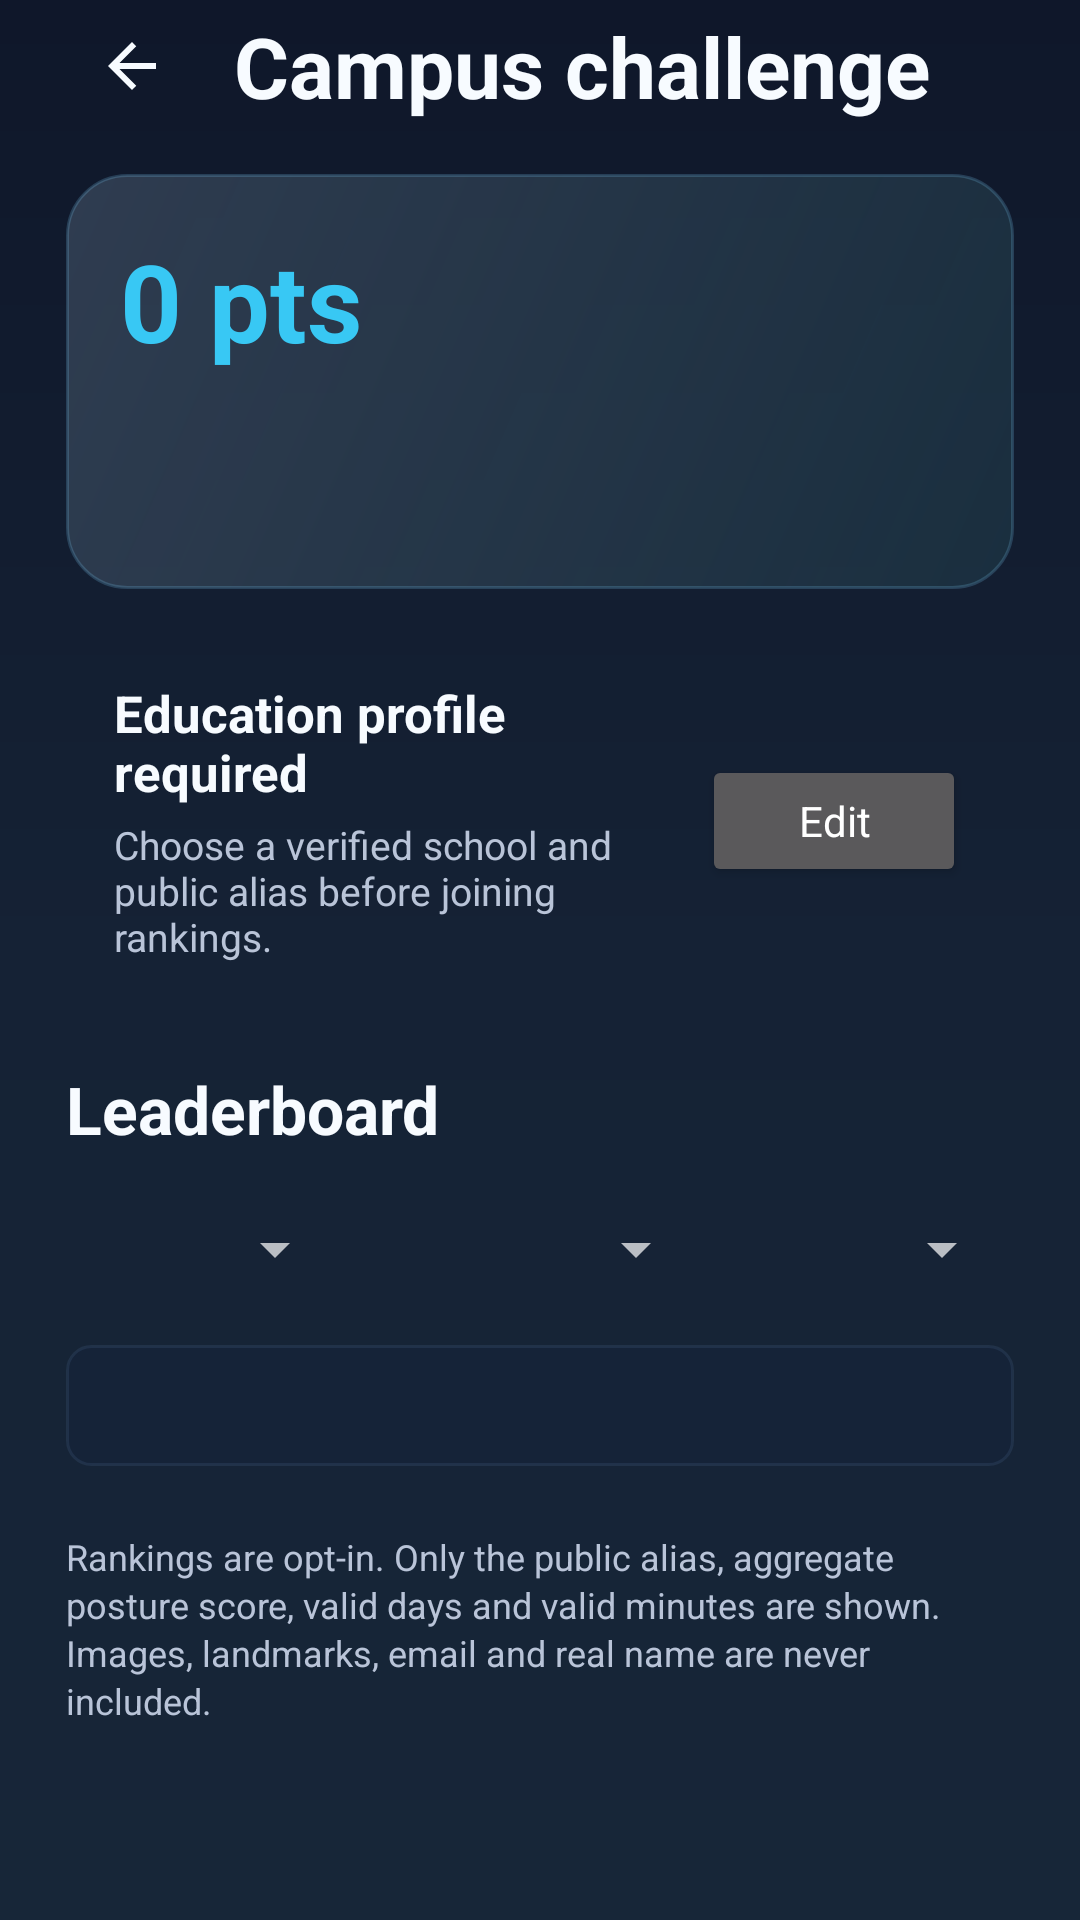

Icon bounding boxes for this 1080px×1920px phone screenshot, format (x1, y1, x2, y2):
Back to stats: (108, 42, 156, 90)
